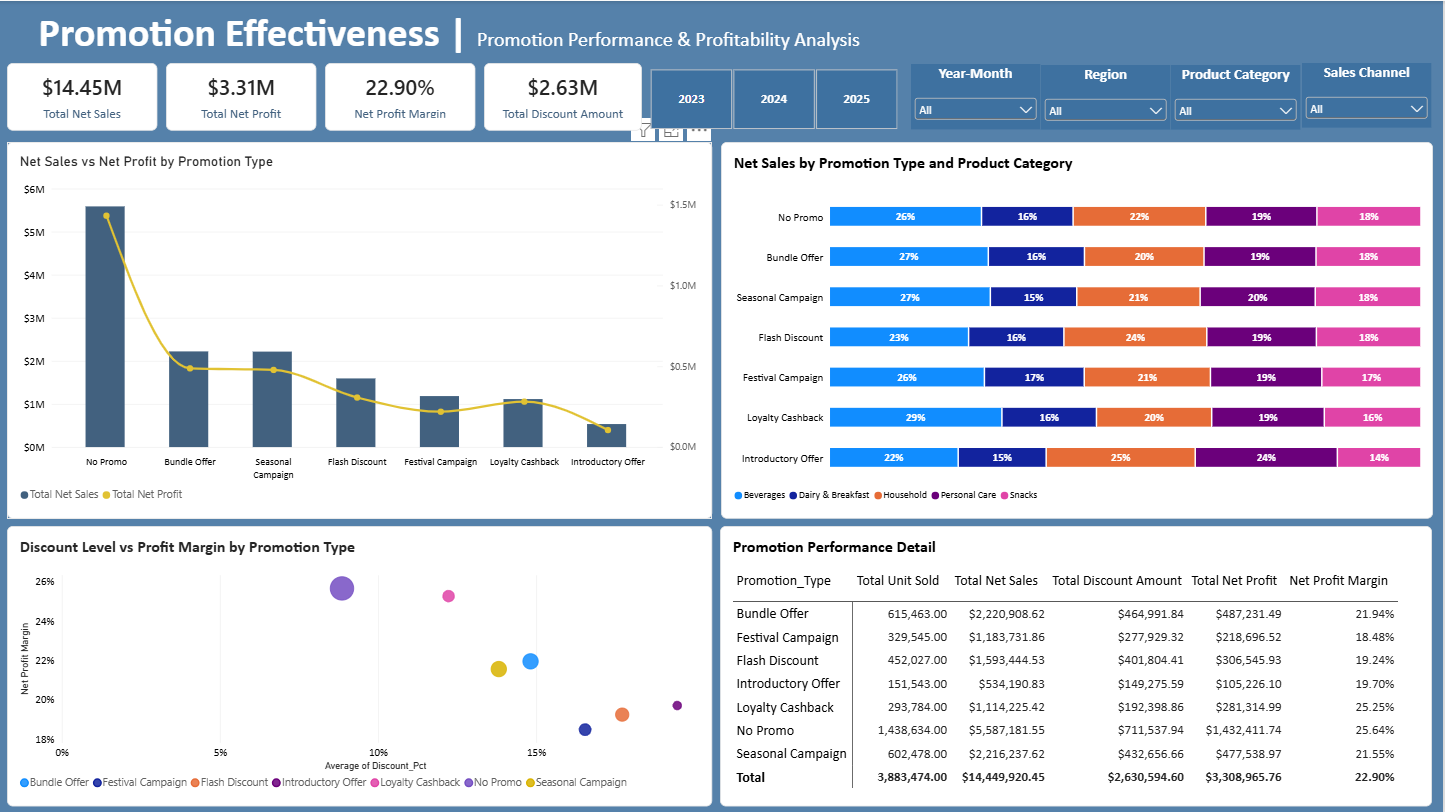

This screenshot's page, from the dashboard's own definition file:
{"tool":"powerbi","page":{"name":"Promotion Effectiveness","canvas":[1920,1080],"ordinal":2},"visuals":[{"type":"card","fields":{"Values":["Measure Table.Total Net Sales"]},"box":[10.7,82.8,200,90],"z":0,"group":"g1"},{"type":"slicer","title":"Year-Month","fields":{"Values":["Calendar Table.Year-Month"]},"box":[1214.1,84.2,172,86.9],"z":0,"group":"g2"},{"type":"lineStackedColumnComboChart","title":"Net Sales vs Net Profit by Promotion Type","fields":{"Category":["Working_01.Promotion_Type"],"Y":["Measure Table.Total Net Sales"],"Y2":["Measure Table.Total Net Profit"]},"box":[10.9,187.8,937.5,500.8],"z":0},{"type":"textbox","box":[10.7,9.4,1895.9,73.5],"z":1000},{"type":"card","fields":{"Values":["Measure Table.Total Net Profit"]},"box":[222,82.8,200,90],"z":1000,"group":"g1"},{"type":"slicer","fields":{"Values":["Calendar Table.Year"]},"box":[846.4,89.6,367.7,82.9],"z":1000,"group":"g2"},{"type":"group","id":"g1","title":"Group 1","box":[10.7,82.8,845,90],"z":2000},{"type":"card","fields":{"Values":["Measure Table.Net Profit Margin"]},"box":[433.2,82.8,200,90],"z":2000,"group":"g1"},{"type":"slicer","title":"Region","fields":{"Values":["Working_01.Region"]},"box":[1386.6,85.6,172,86],"z":2000,"group":"g2"},{"type":"group","id":"g2","title":"Group 2","box":[846.4,82.9,1059.8,89.6],"z":3000},{"type":"card","fields":{"Values":["Measure Table.Total Discount Amount"]},"box":[645.8,83,209.9,89.6],"z":3000,"group":"g1"},{"type":"slicer","title":"Product Category","fields":{"Values":["Working_01.Product_Category"]},"box":[1559,85.6,172,86],"z":3000,"group":"g2"},{"type":"slicer","title":"Sales Channel","fields":{"Values":["Working_01.Sales_Channel"]},"box":[1734.2,82.9,172,86],"z":4000,"group":"g2"},{"type":"scatterChart","title":"Discount Level vs Profit Margin by Promotion Type","fields":{"Series":["Working_01.Promotion_Type"],"Size":["Measure Table.Total Net Sales"],"X":["Avg(Working_01.Discount_Pct)"],"Y":["Measure Table.Net Profit Margin"]},"box":[10.9,698.1,937.5,372.8],"z":4000},{"type":"pivotTable","title":"Promotion Performance Detail","fields":{"Rows":["Working_01.Promotion_Type"],"Values":["Measure Table.Total Unit Sold","Measure Table.Total Net Sales","Measure Table.Total Discount Amount","Measure Table.Total Net Profit","Measure Table.Net Profit Margin"]},"box":[959.3,698.1,947.1,372.8],"z":5000},{"type":"hundredPercentStackedBarChart","title":"Net Sales by Promotion Type and Product Category","fields":{"Category":["Working_01.Promotion_Type"],"Series":["Working_01.Product_Category"],"Y":["Measure Table.Total Net Sales"]},"box":[960.3,187.5,947,501.4],"z":6000}]}

Visuals, with their boxes in screenshot pixels (x1, y1, x2, y2), scaled from the page's 1920x1080 canvas onto the 1445x812 screenshot:
card - Measure Table.Total Net Sales: (x1=8, y1=62, x2=159, y2=130)
"Year-Month" slicer: (x1=914, y1=63, x2=1043, y2=129)
"Net Sales vs Net Profit by Promotion Type" lineStackedColumnComboChart: (x1=8, y1=141, x2=714, y2=518)
textbox: (x1=8, y1=7, x2=1435, y2=62)
card - Measure Table.Total Net Profit: (x1=167, y1=62, x2=318, y2=130)
slicer - Calendar Table.Year: (x1=637, y1=67, x2=914, y2=130)
"Group 1" group: (x1=8, y1=62, x2=644, y2=130)
card - Measure Table.Net Profit Margin: (x1=326, y1=62, x2=477, y2=130)
"Region" slicer: (x1=1044, y1=64, x2=1173, y2=129)
"Group 2" group: (x1=637, y1=62, x2=1435, y2=130)
card - Measure Table.Total Discount Amount: (x1=486, y1=62, x2=644, y2=130)
"Product Category" slicer: (x1=1173, y1=64, x2=1303, y2=129)
"Sales Channel" slicer: (x1=1305, y1=62, x2=1435, y2=127)
"Discount Level vs Profit Margin by Promotion Type" scatterChart: (x1=8, y1=525, x2=714, y2=805)
"Promotion Performance Detail" pivotTable: (x1=722, y1=525, x2=1435, y2=805)
"Net Sales by Promotion Type and Product Category" hundredPercentStackedBarChart: (x1=723, y1=141, x2=1435, y2=518)
